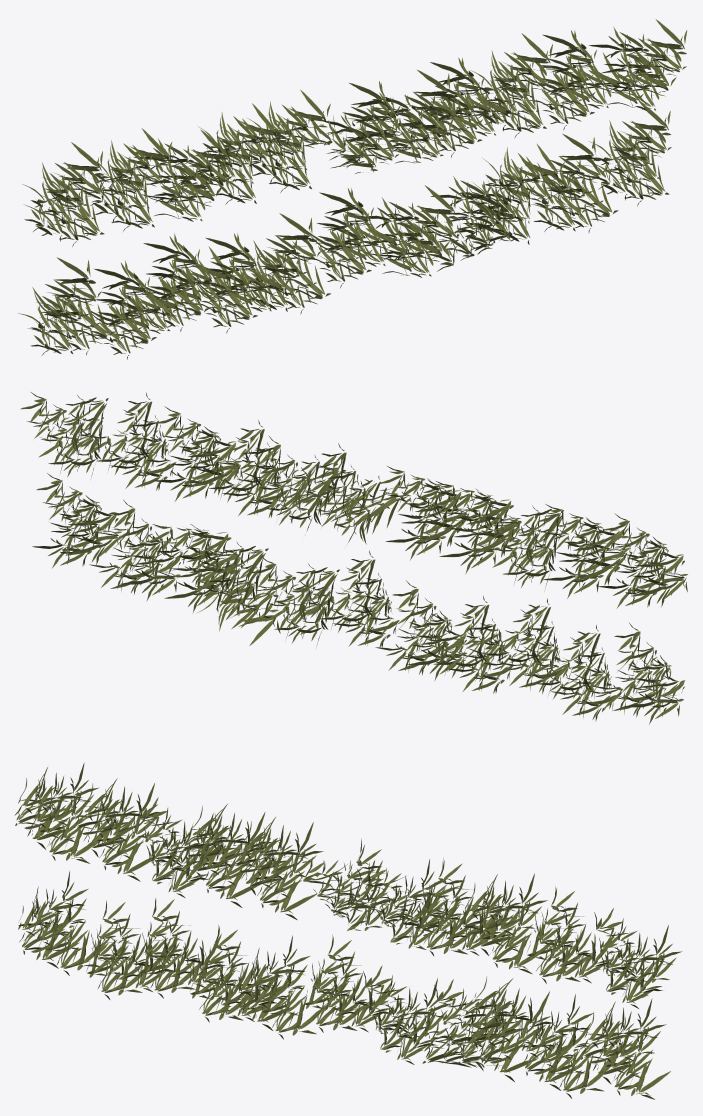
The model's file is low-grass.glb.
3 renders of one model, top to bottom at view 1: azimuth 30°, elevation 25°; view 2: azimuth 150°, elevation 25°; view 3: azimuth 330°, elevation 25°, orthographic.
Visible parts, largest first — view 1: LowPoly_Grass_Grass_Mat_0.002, LowPoly_Grass_Grass_Mat_0.014, LowPoly_Grass_Grass_Mat_0.012, LowPoly_Grass_Grass_Mat_0.013, LowPoly_Grass_Grass_Mat_0.011, LowPoly_Grass_Grass_Mat_0.010, LowPoly_Grass_Grass_Mat_0.001, LowPoly_Grass_Grass_Mat_0.008, LowPoly_Grass_Grass_Mat_0.015, LowPoly_Grass_Grass_Mat_0.007, LowPoly_Grass_Grass_Mat_0.019, LowPoly_Grass_Grass_Mat_0.016 (+10 smaller); view 2: LowPoly_Grass_Grass_Mat_0.003, LowPoly_Grass_Grass_Mat_0.015, LowPoly_Grass_Grass_Mat_0.013, LowPoly_Grass_Grass_Mat_0.011, LowPoly_Grass_Grass_Mat_0.018, LowPoly_Grass_Grass_Mat_0.019, LowPoly_Grass_Grass_Mat_0.017, LowPoly_Grass_Grass_Mat_0.021, LowPoly_Grass_Grass_Mat_0.004, LowPoly_Grass_Grass_Mat_0.010, LowPoly_Grass_Grass_Mat_0.005, LowPoly_Grass_Grass_Mat_0.009 (+10 smaller); view 3: LowPoly_Grass_Grass_Mat_0.011, LowPoly_Grass_Grass_Mat_0.015, LowPoly_Grass_Grass_Mat_0.018, LowPoly_Grass_Grass_Mat_0.004, LowPoly_Grass_Grass_Mat_0.013, LowPoly_Grass_Grass_Mat_0.019, LowPoly_Grass_Grass_Mat_0.017, LowPoly_Grass_Grass_Mat_0.010, LowPoly_Grass_Grass_Mat_0.005, LowPoly_Grass_Grass_Mat_0.009, LowPoly_Grass_Grass_Mat_0.002, LowPoly_Grass_Grass_Mat_0.014 (+10 smaller).
Boxes of the visible parts, box(x1,y1,x2,y2) form: LowPoly_Grass_Grass_Mat_0.002: box(302, 188, 404, 288); LowPoly_Grass_Grass_Mat_0.014: box(529, 30, 627, 130); LowPoly_Grass_Grass_Mat_0.012: box(588, 19, 687, 110); LowPoly_Grass_Grass_Mat_0.013: box(22, 142, 105, 246); LowPoly_Grass_Grass_Mat_0.011: box(589, 101, 671, 206); LowPoly_Grass_Grass_Mat_0.010: box(18, 257, 115, 355); LowPoly_Grass_Grass_Mat_0.001: box(365, 185, 458, 277); LowPoly_Grass_Grass_Mat_0.008: box(85, 260, 185, 359); LowPoly_Grass_Grass_Mat_0.015: box(84, 128, 172, 231); LowPoly_Grass_Grass_Mat_0.007: box(137, 233, 236, 331); LowPoly_Grass_Grass_Mat_0.019: box(470, 33, 552, 138); LowPoly_Grass_Grass_Mat_0.016: box(133, 129, 232, 221); LowPoly_Grass_Grass_Mat_0.003: box(194, 541, 280, 645); LowPoly_Grass_Grass_Mat_0.015: box(537, 504, 630, 598); LowPoly_Grass_Grass_Mat_0.013: box(598, 513, 687, 608); LowPoly_Grass_Grass_Mat_0.011: box(32, 473, 121, 567); LowPoly_Grass_Grass_Mat_0.018: box(379, 466, 471, 560); LowPoly_Grass_Grass_Mat_0.019: box(153, 406, 242, 501); LowPoly_Grass_Grass_Mat_0.017: box(429, 481, 524, 574); LowPoly_Grass_Grass_Mat_0.021: box(309, 443, 406, 544); LowPoly_Grass_Grass_Mat_0.004: box(147, 524, 244, 613); LowPoly_Grass_Grass_Mat_0.010: box(592, 623, 684, 724); LowPoly_Grass_Grass_Mat_0.005: box(375, 580, 467, 680); LowPoly_Grass_Grass_Mat_0.009: box(89, 499, 180, 601); LowPoly_Grass_Grass_Mat_0.011: box(581, 998, 670, 1099); LowPoly_Grass_Grass_Mat_0.015: box(72, 778, 159, 881); LowPoly_Grass_Grass_Mat_0.018: box(230, 817, 323, 920); LowPoly_Grass_Grass_Mat_0.004: box(458, 976, 555, 1081); LowPoly_Grass_Grass_Mat_0.013: box(14, 762, 104, 863); LowPoly_Grass_Grass_Mat_0.019: box(460, 873, 548, 974); LowPoly_Grass_Grass_Mat_0.017: box(178, 804, 271, 907); LowPoly_Grass_Grass_Mat_0.010: box(18, 871, 109, 975); LowPoly_Grass_Grass_Mat_0.005: box(236, 935, 326, 1039); LowPoly_Grass_Grass_Mat_0.009: box(522, 994, 606, 1098); LowPoly_Grass_Grass_Mat_0.002: box(304, 935, 392, 1032); LowPoly_Grass_Grass_Mat_0.014: box(527, 887, 615, 983).
Size of the model in its own units: 1525 by 489 by 90.02.
Materials: 23 (23 with a texture image).
